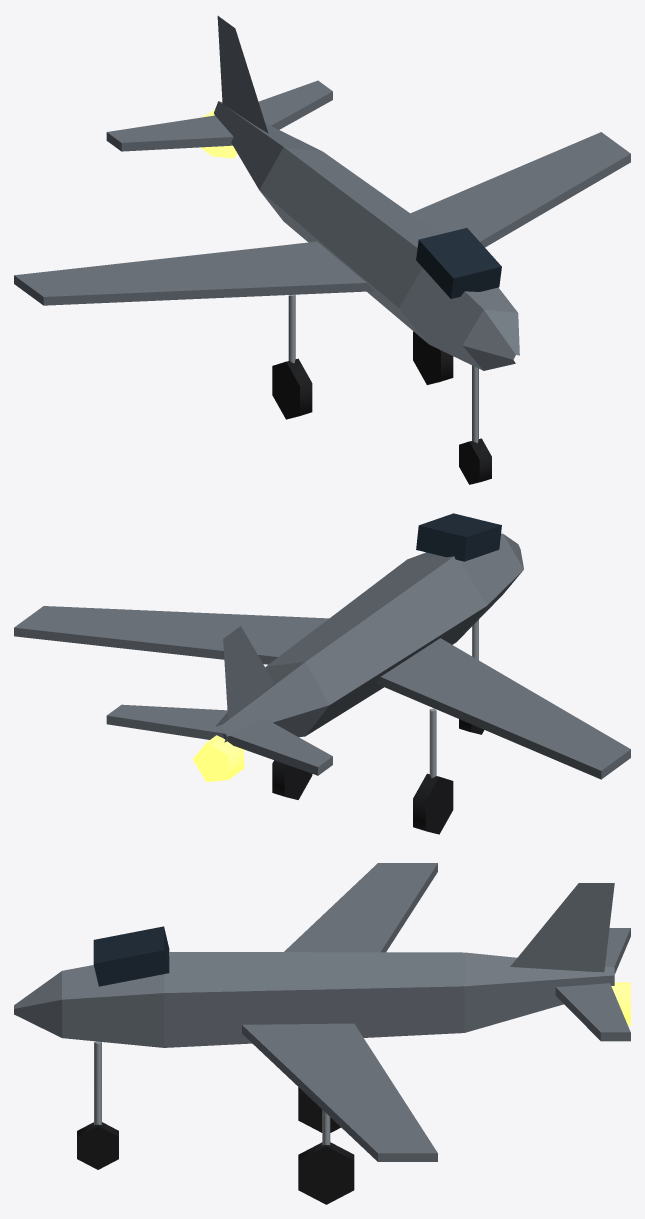
File: veh_air_fighter_a07_lod1.glb
3 views of the same model, one above another, from view 1: azimuth 30°, elevation 25°; view 2: azimuth 150°, elevation 25°; view 3: azimuth 270°, elevation 25° (orthographic).
Visible parts, largest first — view 1: body, gear_1, gear_0, gear_2; view 2: body, gear_1, gear_2, gear_0; view 3: body, gear_2, gear_0, gear_1.
Part boxes in pixels (x1,y1,x2,y2): body: [14, 16, 630, 370]; gear_1: [272, 294, 312, 419]; gear_0: [459, 365, 491, 484]; gear_2: [413, 331, 453, 384]; body: [14, 513, 630, 781]; gear_1: [413, 708, 453, 834]; gear_2: [272, 760, 312, 799]; gear_0: [459, 620, 484, 734]; body: [14, 863, 630, 1161]; gear_2: [298, 1110, 354, 1204]; gear_0: [77, 1041, 118, 1169]; gear_1: [298, 1087, 340, 1132].
Bounding box in the file's own units: 8.48 × 3.89 × 7.62.
